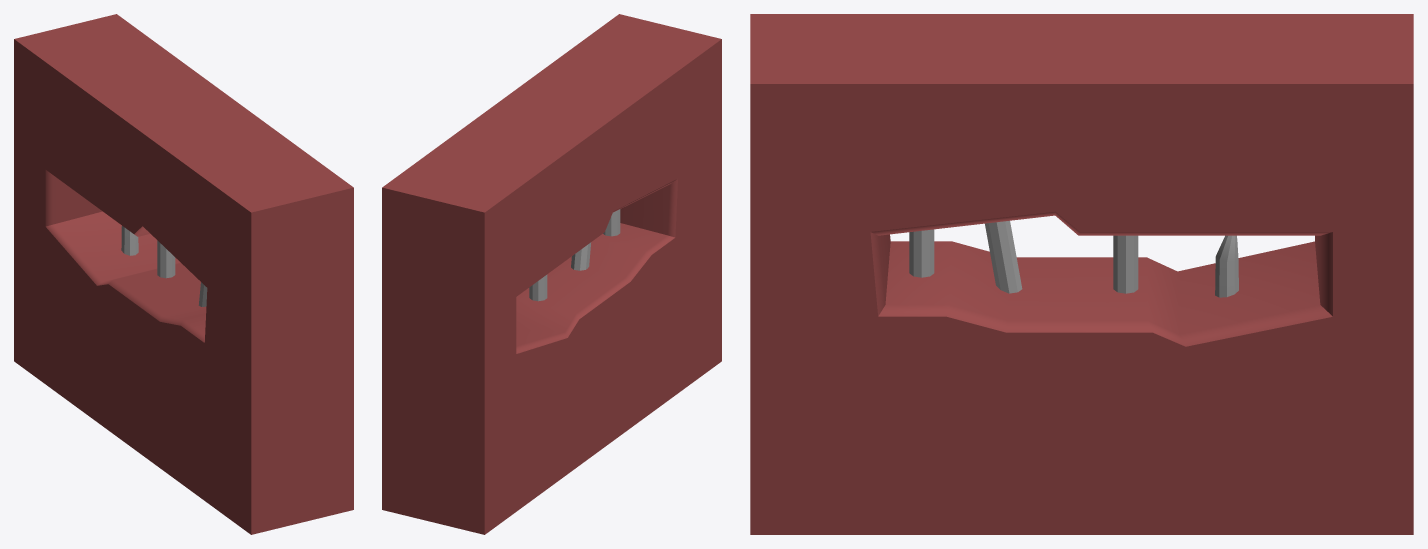
The model's file is Window B.fbx.
The picture shows the model from 3 angles, left to right: view 1: azimuth 30°, elevation 25°; view 2: azimuth 150°, elevation 25°; view 3: azimuth 270°, elevation 25°; orthographic projection. The views are drawn at different scales.
Visible parts, largest first — view 1: Wall_Window_4x1_B4, Bar5; view 2: Wall_Window_4x1_B4, Bar5; view 3: Wall_Window_4x1_B4, Bar5.
Part boxes in pixels (left/top/right/bottom): Wall_Window_4x1_B4: left=14, top=14, right=353, bottom=534; Bar5: left=121, top=226, right=207, bottom=306; Wall_Window_4x1_B4: left=382, top=14, right=721, bottom=534; Bar5: left=529, top=209, right=620, bottom=301; Wall_Window_4x1_B4: left=750, top=14, right=1413, bottom=534; Bar5: left=909, top=220, right=1238, bottom=297.
Size of the model in its own units: 1 by 3 by 4.
